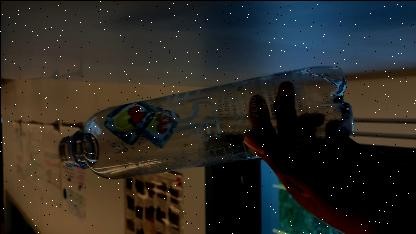Plastic Bottle: (56, 59, 354, 180)
